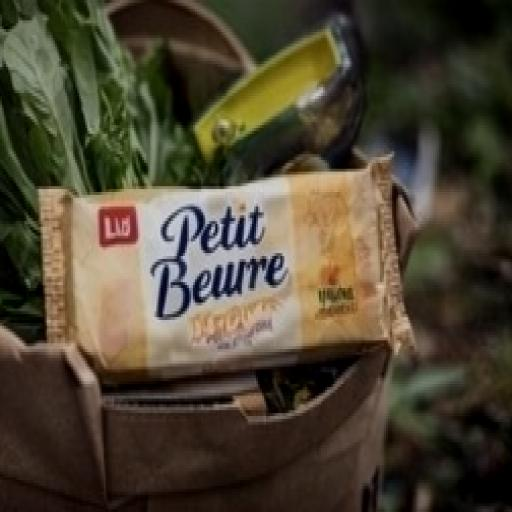petit_beurre: (11, 132, 460, 401)
